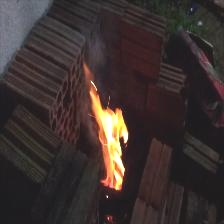fire: (75, 55, 139, 204)
